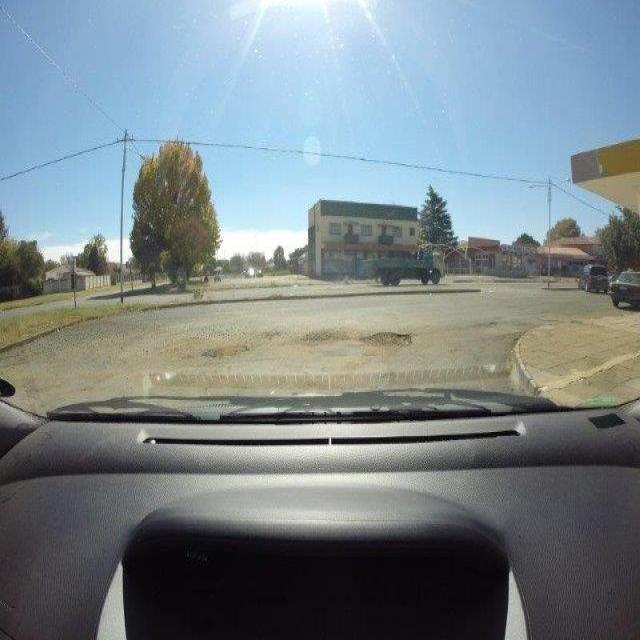lubang: (197, 340, 254, 363), (296, 321, 348, 344), (256, 320, 293, 352), (356, 327, 409, 349)
